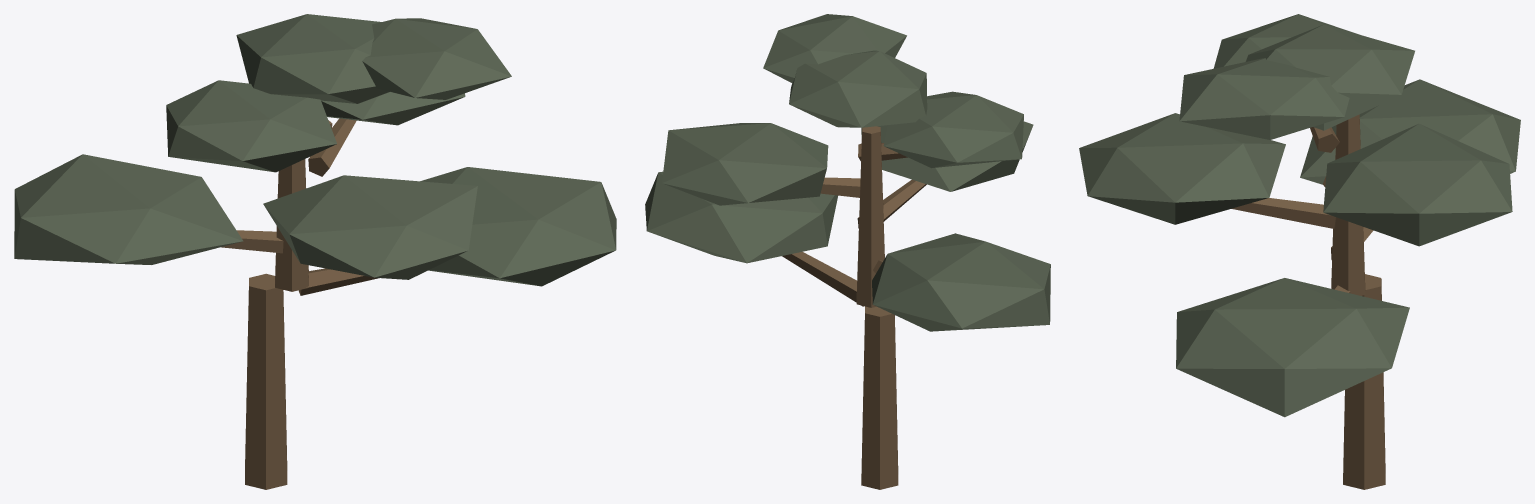
Rendered from K12b_far.glb.
3 renders of one model, left to right at view 1: azimuth 30°, elevation 25°; view 2: azimuth 150°, elevation 25°; view 3: azimuth 270°, elevation 25°, orthographic. The views are drawn at different scales.
Parts seen in each view (by area): view 1: K12b_far; view 2: K12b_far; view 3: K12b_far.
Part boxes in pixels (x1=…): K12b_far: x1=14, y1=14, x2=616, y2=489; K12b_far: x1=645, y1=14, x2=1050, y2=489; K12b_far: x1=1079, y1=14, x2=1520, y2=489.
Size of the model in its own units: 12.29 by 10.03 by 8.8.
